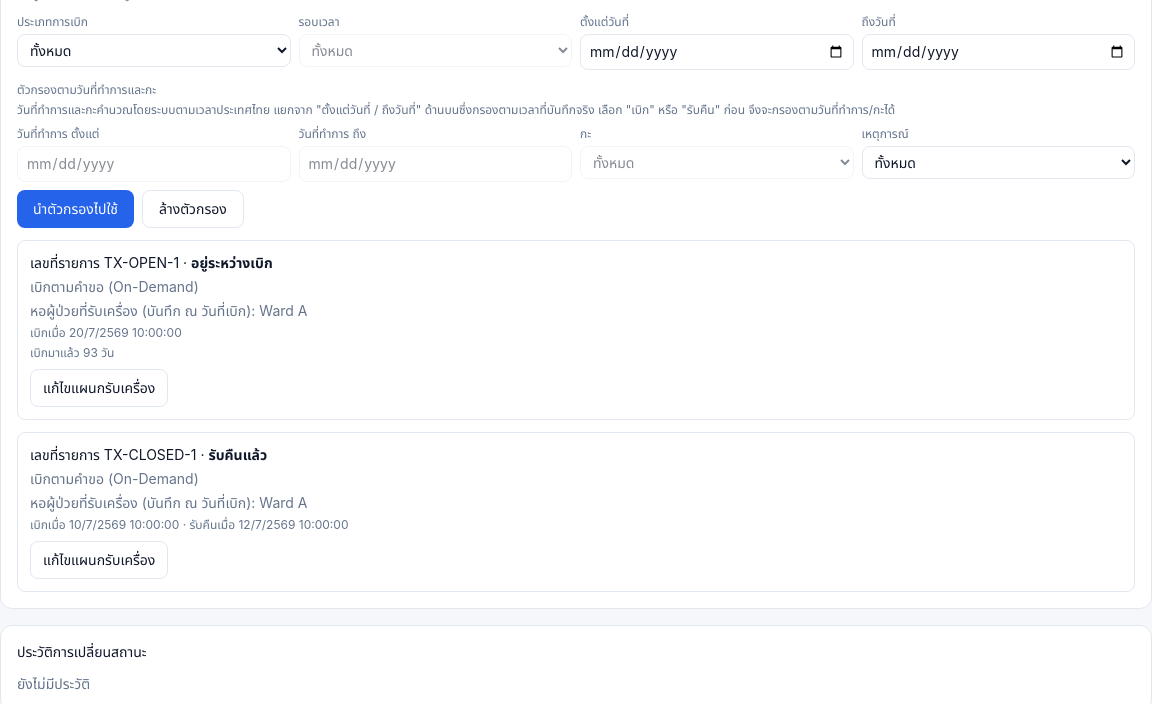
Scenario: EquipmentDetailPage transaction history (Roadmap PR9B review round 2, Finding 3) › refreshes the history after a successful CLOSED correction, without a page reload
(page scrolled)
Expected: the text "TX-OPEN-1" is shown, [104,254,179,271]
Expected: the text "TX-CLOSED-1" is shown, [104,446,196,463]
Click the button "แก้ไขแผนกรับเครื่อง" below "TX-CLOSED-1" at (99, 560), box [30,541,168,579]
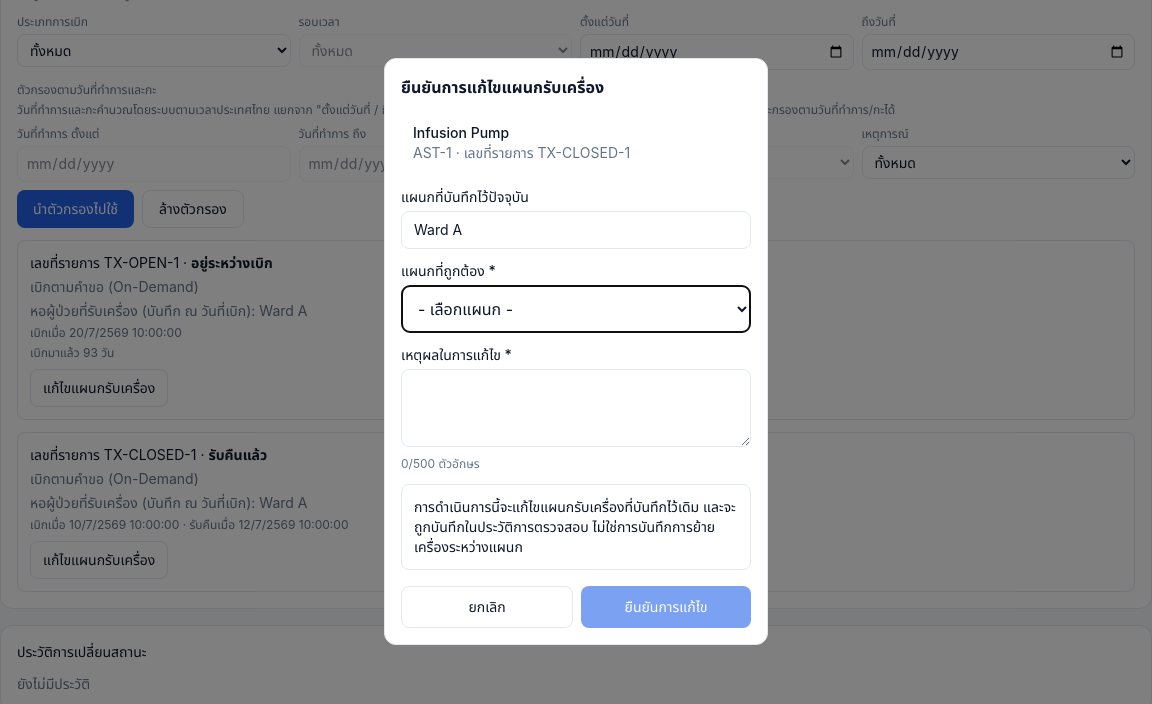
Select "Ward B" in the dropdown labelled "แผนกที่ถูกต้อง *" at (576, 308), box [401,284,751,332]
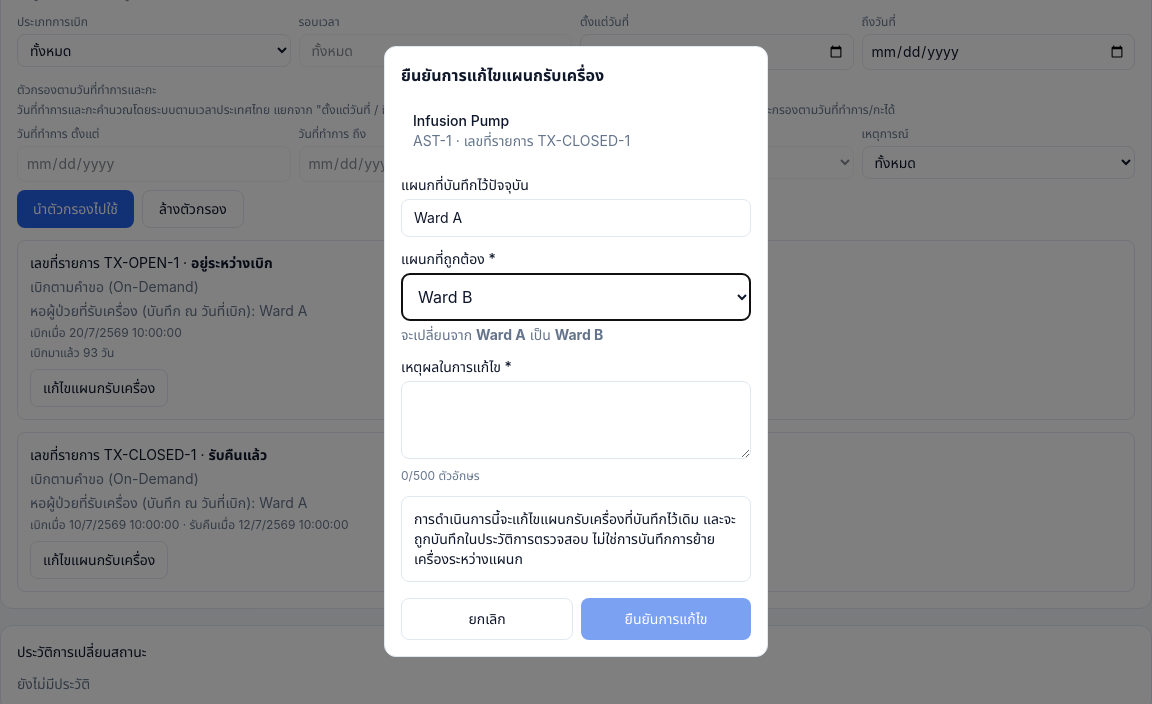
Type "Fixed after receipt" into the text box labelled "เหตุผลในการแก้ไข *" at (576, 420), box [401,380,751,458]
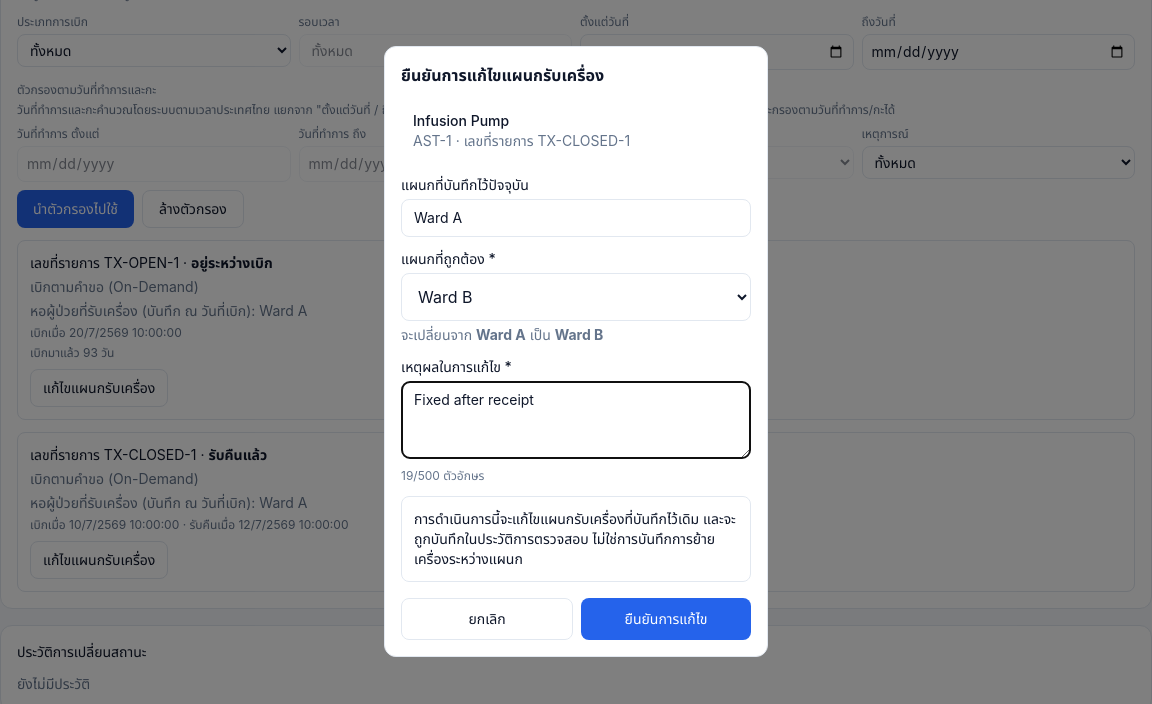
Click the button "ยืนยันการแก้ไข" at (666, 618), box [581,598,751,640]
(page scrolled)
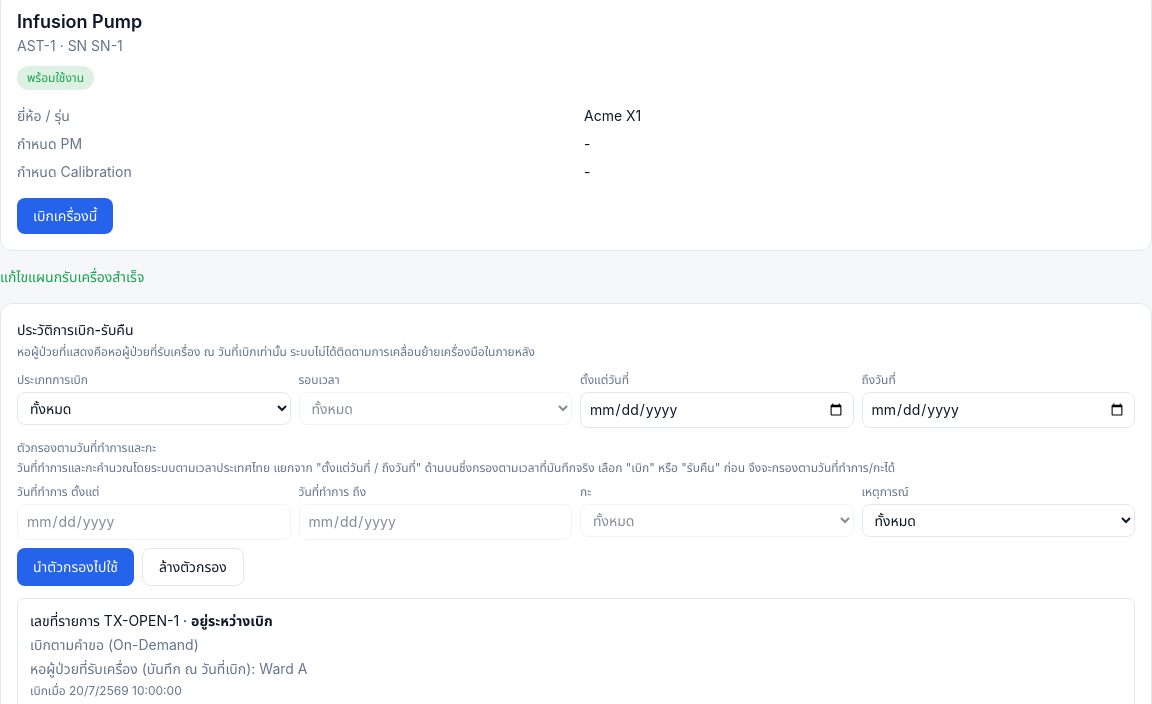
Now the text "แก้ไขแผนกรับเครื่องสำเร็จ" is shown, box [0,268,144,285]
